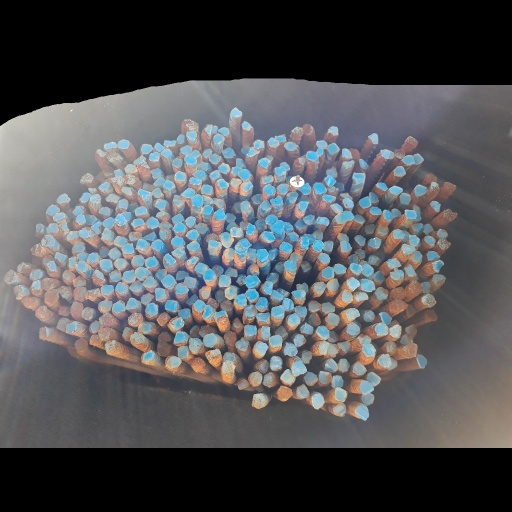dipstick: (280, 369, 295, 385), (291, 360, 306, 376), (400, 343, 417, 357), (188, 337, 202, 353), (205, 348, 221, 362), (254, 341, 268, 357), (248, 371, 262, 387), (277, 385, 291, 401), (355, 404, 369, 420), (199, 325, 216, 338), (2, 269, 16, 284), (44, 290, 58, 305), (57, 286, 72, 300), (98, 312, 113, 326), (127, 312, 142, 326), (174, 331, 188, 346), (252, 394, 266, 409), (284, 342, 298, 357), (165, 355, 181, 368), (311, 393, 324, 409), (203, 333, 217, 347), (191, 357, 205, 371), (220, 234, 234, 248), (271, 220, 285, 234), (360, 380, 374, 394), (74, 338, 87, 353), (367, 372, 380, 387), (131, 218, 145, 231), (29, 268, 43, 281), (45, 261, 58, 275), (135, 266, 148, 280), (162, 274, 175, 288), (72, 286, 86, 299), (86, 288, 100, 301), (154, 287, 167, 301), (29, 281, 42, 295), (98, 300, 112, 313), (130, 332, 143, 346), (141, 350, 155, 363), (177, 308, 191, 321), (214, 310, 228, 323), (222, 360, 235, 374), (236, 337, 250, 350), (224, 285, 237, 299), (217, 274, 231, 287), (245, 288, 259, 301), (262, 373, 276, 386), (296, 384, 309, 398), (318, 371, 332, 384), (304, 372, 317, 386), (323, 359, 337, 372), (315, 341, 328, 355), (316, 326, 329, 340), (271, 305, 284, 319), (360, 279, 374, 292), (408, 281, 422, 294), (346, 322, 359, 336), (383, 341, 396, 355), (352, 362, 366, 375), (70, 301, 82, 316), (137, 322, 152, 334), (157, 311, 169, 326), (231, 317, 243, 332), (244, 275, 259, 287), (335, 387, 347, 402), (442, 209, 457, 221), (54, 251, 67, 264), (136, 238, 149, 251), (62, 270, 75, 283), (73, 274, 86, 287), (125, 297, 138, 310), (185, 256, 198, 269), (244, 304, 257, 317), (256, 359, 269, 372), (333, 403, 346, 416), (275, 326, 288, 339), (308, 313, 321, 326), (255, 297, 268, 310), (327, 313, 340, 326), (362, 343, 375, 356), (378, 354, 391, 367), (115, 198, 127, 212), (184, 119, 198, 131), (105, 340, 117, 354), (170, 317, 184, 329), (174, 282, 188, 294), (202, 305, 214, 319), (194, 262, 208, 274), (207, 240, 221, 252), (270, 356, 282, 370), (327, 343, 339, 357), (256, 312, 270, 324), (410, 223, 424, 235), (345, 307, 359, 319), (393, 299, 407, 311), (421, 294, 435, 306), (389, 324, 401, 338), (114, 213, 126, 226), (72, 241, 85, 253), (151, 239, 163, 252), (158, 228, 171, 240), (172, 246, 185, 258), (114, 258, 127, 270), (100, 259, 113, 271), (86, 252, 99, 264), (75, 261, 87, 274), (123, 270, 136, 282), (143, 276, 155, 289), (154, 268, 167, 280), (141, 292, 153, 305), (21, 296, 34, 308), (38, 326, 50, 339), (112, 300, 124, 313), (176, 346, 188, 359), (185, 294, 198, 306), (203, 269, 216, 281), (223, 247, 235, 260), (269, 335, 282, 347), (331, 375, 343, 388), (293, 334, 306, 346), (288, 314, 300, 327), (284, 259, 296, 272), (326, 278, 338, 291), (211, 197, 224, 209), (193, 169, 206, 181), (313, 182, 326, 194), (265, 214, 278, 226), (294, 219, 307, 231), (414, 185, 426, 198), (443, 182, 456, 194), (349, 263, 362, 275), (361, 264, 373, 277), (346, 278, 359, 290), (420, 281, 433, 293), (375, 287, 388, 299), (375, 323, 388, 335), (46, 223, 60, 234), (153, 199, 167, 210), (16, 262, 30, 273), (42, 278, 56, 289), (13, 285, 24, 299), (122, 326, 133, 340), (259, 326, 270, 340), (301, 350, 312, 364), (260, 231, 274, 242), (246, 146, 260, 157), (390, 269, 404, 280), (98, 206, 113, 216), (386, 258, 401, 268), (108, 247, 120, 259), (122, 243, 134, 255), (145, 256, 157, 268), (132, 254, 144, 266), (81, 307, 93, 319), (56, 317, 68, 329), (65, 321, 77, 333), (145, 303, 157, 315), (165, 300, 177, 312), (191, 194, 203, 206), (248, 263, 260, 275), (322, 266, 334, 278), (216, 178, 228, 190), (359, 196, 371, 208), (432, 260, 444, 272), (433, 274, 445, 286), (404, 265, 416, 277), (405, 324, 417, 336), (57, 193, 70, 204), (46, 204, 59, 215), (138, 188, 151, 199), (145, 217, 158, 228), (41, 235, 54, 246), (186, 229, 199, 240), (164, 253, 175, 266), (92, 270, 103, 283), (100, 284, 113, 295), (115, 282, 128, 293), (34, 306, 47, 317), (157, 345, 170, 356), (206, 298, 219, 309), (199, 286, 210, 299), (234, 294, 247, 305), (234, 244, 247, 255), (257, 248, 268, 261), (243, 325, 256, 336), (300, 323, 313, 334), (261, 281, 272, 294), (270, 290, 283, 301), (294, 306, 307, 317), (307, 300, 320, 311), (321, 302, 334, 313), (317, 253, 330, 264), (279, 241, 292, 252), (255, 219, 268, 230), (222, 147, 235, 158), (437, 239, 450, 250), (368, 237, 381, 248), (402, 244, 415, 255), (393, 287, 406, 298), (342, 289, 353, 302), (424, 310, 437, 321), (400, 334, 413, 345), (338, 358, 349, 371), (361, 393, 374, 404), (181, 188, 195, 198), (129, 281, 143, 291), (276, 184, 290, 194), (417, 354, 427, 368), (155, 211, 170, 220), (79, 192, 91, 203), (91, 222, 102, 234), (102, 217, 114, 228), (111, 176, 123, 187), (101, 228, 112, 240), (173, 194, 184, 206), (173, 222, 185, 233), (187, 241, 199, 252), (109, 269, 121, 280), (176, 270, 188, 281), (89, 334, 101, 345), (158, 332, 170, 343), (194, 299, 205, 311), (223, 352, 235, 363), (220, 299, 232, 310), (195, 223, 207, 234), (230, 226, 242, 237), (236, 273, 247, 285), (237, 378, 248, 390), (282, 298, 293, 310), (313, 282, 325, 293), (328, 330, 339, 342), (300, 261, 312, 272), (267, 248, 278, 260), (290, 251, 302, 262), (238, 169, 250, 180), (218, 163, 230, 174), (184, 155, 196, 166), (303, 214, 315, 225), (334, 263, 346, 274), (407, 136, 418, 148), (399, 193, 411, 204), (354, 234, 365, 246), (376, 225, 388, 236), (368, 255, 380, 266), (373, 270, 384, 282), (363, 309, 374, 321), (379, 313, 391, 324), (338, 342, 350, 353), (425, 172, 437, 183), (80, 173, 93, 183), (107, 152, 120, 162), (124, 164, 137, 174), (179, 145, 192, 155), (78, 227, 91, 237), (171, 213, 184, 223), (30, 244, 43, 254), (171, 236, 184, 246), (68, 257, 78, 270), (185, 276, 195, 289), (223, 332, 236, 342), (292, 290, 305, 300), (299, 236, 309, 249), (355, 291, 368, 301), (405, 304, 415, 317), (358, 335, 371, 345), (387, 356, 397, 369), (90, 194, 101, 205), (124, 173, 135, 184), (98, 246, 109, 257), (214, 290, 225, 301), (214, 209, 225, 220), (245, 247, 256, 258), (302, 124, 313, 135), (328, 143, 339, 154), (300, 183, 311, 194), (282, 221, 293, 232), (341, 148, 352, 159), (429, 201, 440, 212), (340, 241, 351, 252), (424, 236, 435, 247), (409, 235, 420, 246), (72, 205, 84, 215), (117, 139, 129, 149), (138, 160, 150, 170), (174, 171, 186, 181), (66, 231, 78, 241), (114, 235, 126, 245), (159, 221, 171, 231), (225, 267, 237, 277), (201, 204, 213, 214), (266, 273, 278, 283), (296, 283, 308, 293), (313, 239, 323, 251), (240, 181, 252, 191), (291, 126, 303, 136), (258, 158, 270, 168), (270, 196, 282, 206), (330, 203, 342, 213), (316, 216, 328, 226), (335, 213, 347, 223), (402, 155, 414, 165), (393, 166, 405, 176), (430, 181, 440, 193), (382, 209, 392, 221), (348, 254, 360, 264), (106, 193, 119, 202), (134, 206, 147, 215), (128, 231, 141, 240), (306, 151, 319, 160), (262, 185, 275, 194), (426, 251, 439, 260), (103, 141, 117, 149), (237, 238, 251, 246), (75, 214, 85, 225), (141, 143, 152, 153), (163, 180, 174, 190), (172, 157, 182, 168), (186, 131, 197, 141), (85, 214, 96, 224), (185, 216, 195, 227), (212, 265, 223, 275), (287, 232, 298, 242), (231, 166, 242, 176), (209, 170, 220, 180), (213, 134, 224, 144), (253, 139, 264, 149), (251, 194, 262, 204), (240, 201, 251, 211), (260, 200, 271, 210), (325, 176, 336, 186), (323, 241, 333, 252), (343, 209, 353, 220), (353, 214, 364, 224), (413, 153, 423, 164), (405, 209, 416, 219), (364, 223, 375, 233), (354, 249, 365, 259), (35, 223, 44, 235), (120, 186, 132, 195), (275, 261, 284, 273), (200, 185, 212, 194), (198, 162, 210, 171), (230, 108, 242, 117), (261, 175, 273, 184), (369, 206, 381, 215), (337, 233, 349, 242), (284, 142, 297, 150), (389, 186, 402, 194), (149, 151, 159, 161), (99, 328, 109, 338), (328, 126, 338, 136), (287, 192, 297, 202), (313, 230, 323, 240), (349, 149, 359, 159), (343, 198, 353, 208), (393, 229, 403, 239), (423, 224, 433, 234), (437, 228, 447, 238), (151, 168, 162, 177), (225, 213, 236, 222), (218, 127, 229, 136), (236, 158, 245, 169), (275, 135, 286, 144), (316, 140, 327, 149), (294, 157, 305, 166), (359, 158, 368, 169), (353, 172, 364, 181), (369, 192, 378, 203), (376, 182, 387, 191), (189, 177, 201, 185), (274, 167, 286, 175), (233, 201, 241, 213), (151, 188, 161, 197), (246, 224, 255, 234), (202, 149, 212, 158), (204, 124, 213, 134), (268, 138, 278, 147), (369, 133, 378, 143), (328, 184, 338, 193), (394, 149, 404, 158), (391, 209, 401, 218), (412, 251, 422, 260), (53, 213, 64, 221), (95, 149, 106, 157), (153, 177, 164, 185), (206, 234, 217, 242), (226, 222, 237, 230), (230, 178, 241, 186), (209, 154, 220, 162), (323, 195, 335, 202), (154, 142, 163, 151), (176, 135, 185, 144), (241, 121, 250, 130), (298, 201, 307, 210), (380, 149, 389, 158), (99, 182, 109, 190), (114, 169, 124, 177), (161, 149, 171, 157), (280, 162, 290, 170), (163, 140, 176, 146), (241, 146, 250, 154)
